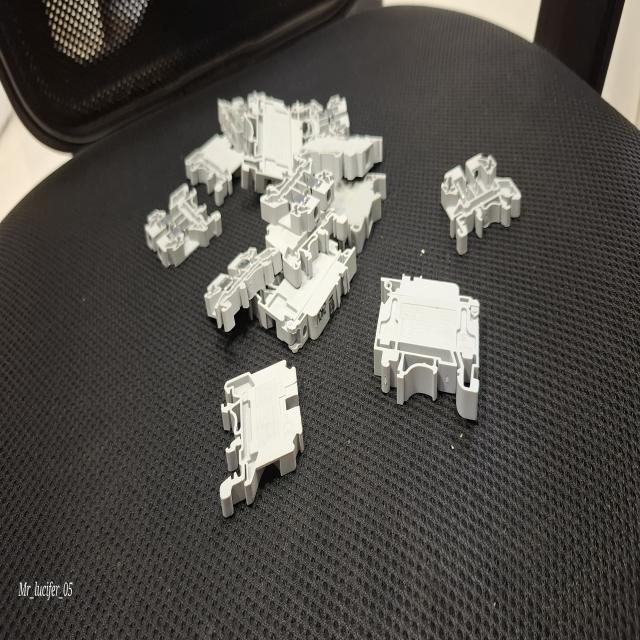Inverted: (216, 355, 307, 518)
Pass: (142, 178, 222, 276), (198, 242, 282, 334), (258, 156, 336, 236)
Reject: (436, 126, 526, 260)
